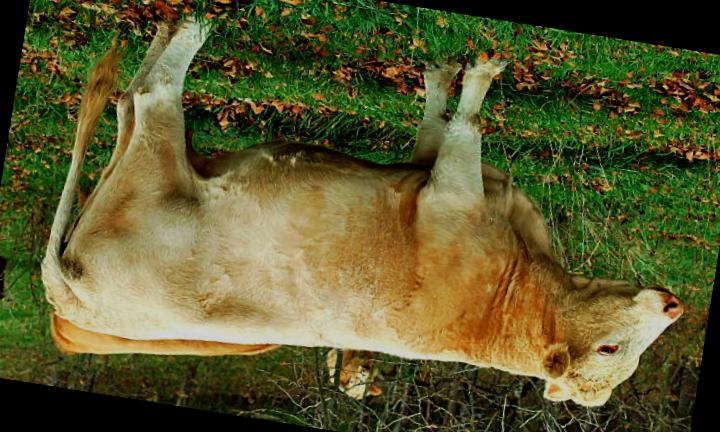Charolais: (42, 22, 682, 406)
